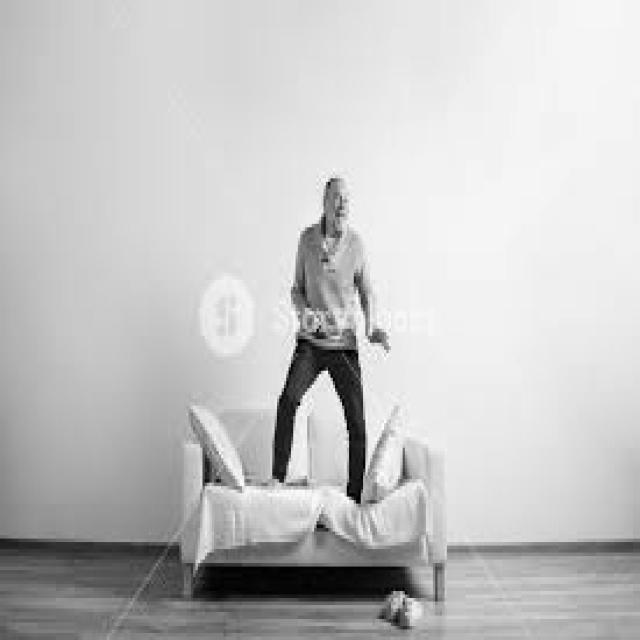stand: (293, 175, 370, 532)
